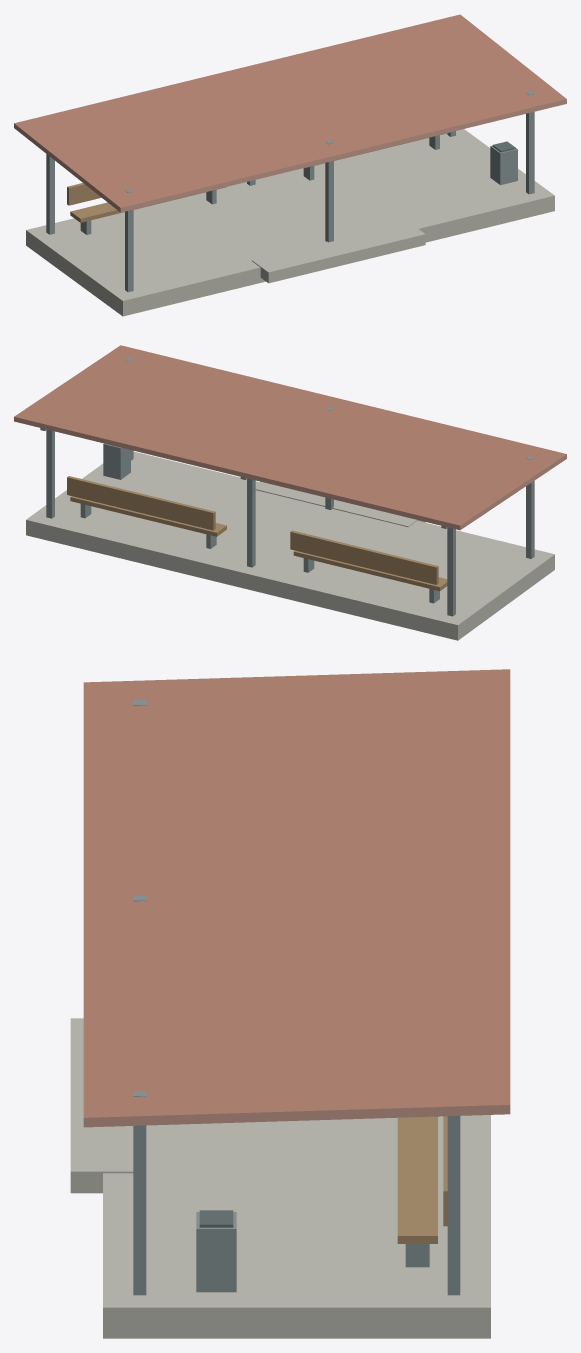
The picture shows the model from 3 angles, top to bottom: view 1: azimuth 30°, elevation 25°; view 2: azimuth 150°, elevation 25°; view 3: azimuth 270°, elevation 25°; orthographic projection. The views are drawn at different scales.
Parts seen in each view (by area): view 1: student-union-annex__redMetalCanopy, student-union-annex__shelterPaving, student-union-annex__entranceThreshold_0, student-union-annex__slenderPosts, student-union-annex__closedCanopyEdges, student-union-annex__litterBin, student-union-annex__seats, student-union-annex__benchLegs, student-union-annex__benchBack; view 2: student-union-annex__redMetalCanopy, student-union-annex__shelterPaving, student-union-annex__benchBack, student-union-annex__slenderPosts, student-union-annex__closedCanopyEdges, student-union-annex__seats, student-union-annex__entranceThreshold_0, student-union-annex__litterBin, student-union-annex__benchLegs; view 3: student-union-annex__redMetalCanopy, student-union-annex__shelterPaving, student-union-annex__entranceThreshold_0, student-union-annex__seats, student-union-annex__slenderPosts, student-union-annex__closedCanopyEdges, student-union-annex__litterBin.
Boxes of the visible parts, x1=… form: student-union-annex__redMetalCanopy: x1=14, y1=14, x2=566, y2=207; student-union-annex__shelterPaving: x1=26, y1=129, x2=554, y2=316; student-union-annex__entranceThreshold_0: x1=251, y1=221, x2=425, y2=283; student-union-annex__slenderPosts: x1=46, y1=91, x2=534, y2=292; student-union-annex__closedCanopyEdges: x1=14, y1=99, x2=566, y2=212; student-union-annex__litterBin: x1=490, y1=145, x2=517, y2=185; student-union-annex__seats: x1=70, y1=132, x2=449, y2=222; student-union-annex__benchLegs: x1=80, y1=135, x2=439, y2=234; student-union-annex__benchBack: x1=67, y1=183, x2=101, y2=205; student-union-annex__redMetalCanopy: x1=14, y1=345, x2=566, y2=525; student-union-annex__shelterPaving: x1=26, y1=451, x2=554, y2=640; student-union-annex__benchBack: x1=67, y1=476, x2=438, y2=584; student-union-annex__slenderPosts: x1=46, y1=358, x2=534, y2=616; student-union-annex__closedCanopyEdges: x1=14, y1=417, x2=566, y2=530; student-union-annex__seats: x1=70, y1=496, x2=447, y2=591; student-union-annex__entranceThreshold_0: x1=255, y1=481, x2=425, y2=527; student-union-annex__litterBin: x1=103, y1=443, x2=130, y2=479; student-union-annex__benchLegs: x1=80, y1=504, x2=439, y2=603; student-union-annex__redMetalCanopy: x1=83, y1=669, x2=510, y2=1117; student-union-annex__shelterPaving: x1=103, y1=1115, x2=490, y2=1338; student-union-annex__entranceThreshold_0: x1=70, y1=1018, x2=133, y2=1193; student-union-annex__seats: x1=397, y1=1116, x2=437, y2=1243; student-union-annex__slenderPosts: x1=133, y1=699, x2=460, y2=1295; student-union-annex__closedCanopyEdges: x1=83, y1=1105, x2=510, y2=1127; student-union-annex__litterBin: x1=196, y1=1212, x2=236, y2=1292.
Size of the model in its own units: 12.8 by 3.3 by 5.46.
